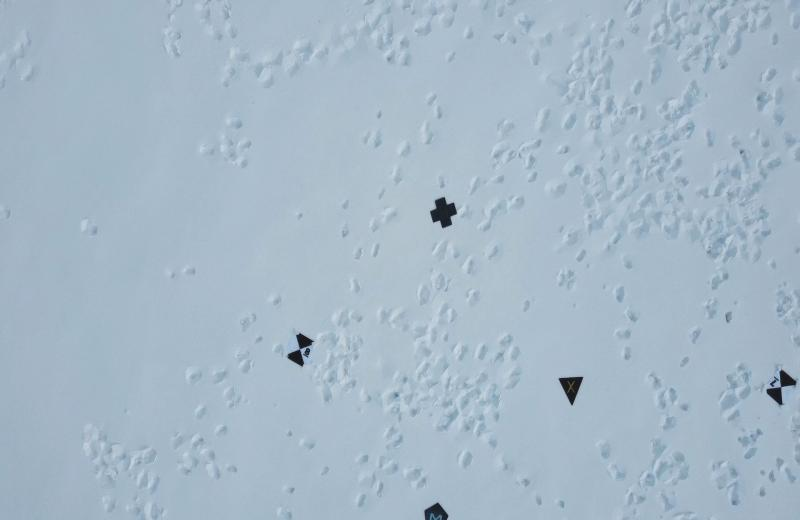Cross: (427, 194, 458, 229)
Triangle: (556, 372, 586, 406)
